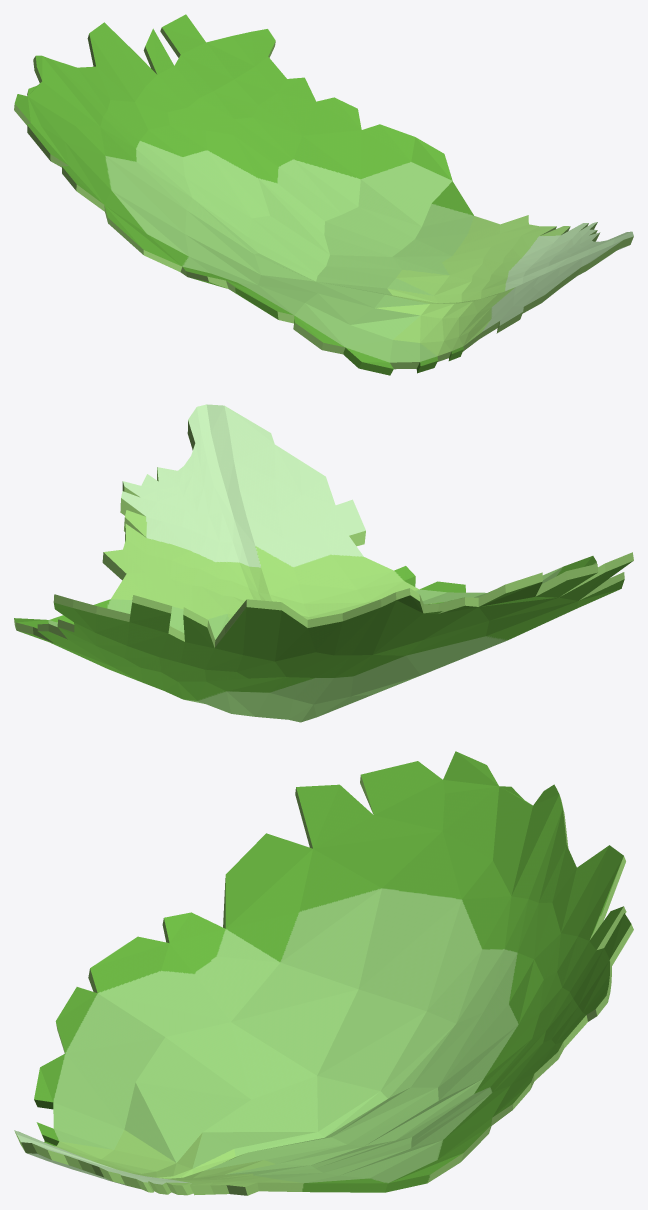
File: yangbaechuleaf_fifinal.fbx
3 views of the same model, one above another, from view 1: azimuth 30°, elevation 25°; view 2: azimuth 150°, elevation 25°; view 3: azimuth 270°, elevation 25° (orthographic). The views are drawn at different scales.
Parts seen in each view (by area): view 1: yangleaf_1; view 2: yangleaf_1; view 3: yangleaf_1.
Part boxes in pixels (x1,y1,x2,y2): yangleaf_1: (14,14,633,375); yangleaf_1: (14,404,633,722); yangleaf_1: (14,751,633,1195).
Bounding box in the file's own units: 183 × 80.12 × 177.
